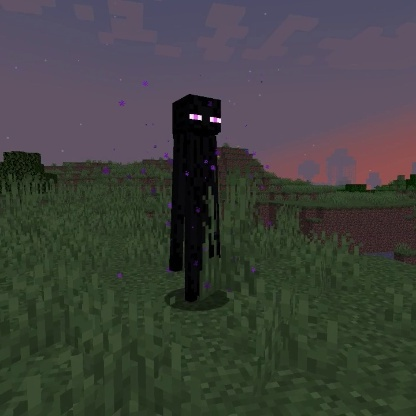enderman: (165, 91, 225, 304)
